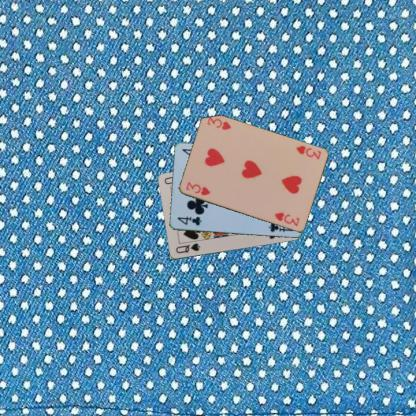3h: (294, 143, 323, 161), (183, 180, 211, 197)
4c: (175, 214, 202, 226)
Qs: (173, 240, 201, 255)
